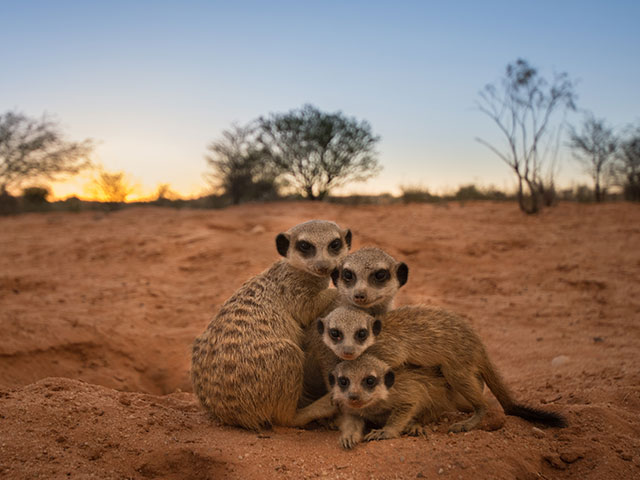meerkat: (183, 202, 340, 448)
